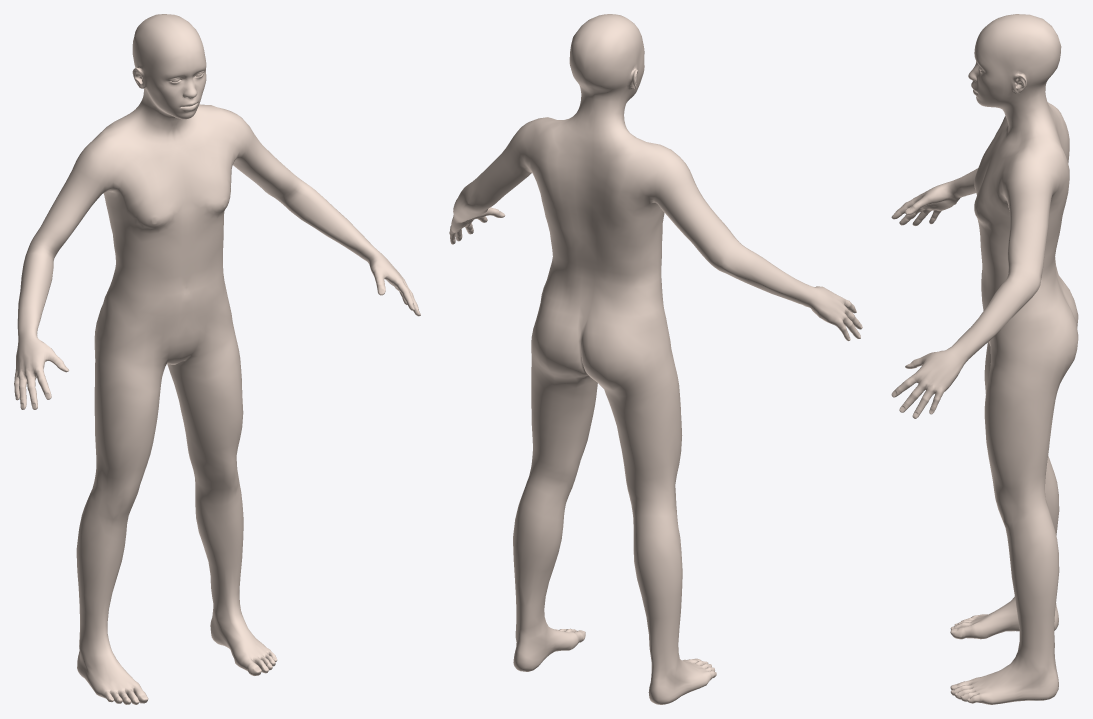
Rendered from avatar.glb.
3 views of the same model, side by side, from view 1: azimuth 30°, elevation 25°; view 2: azimuth 150°, elevation 25°; view 3: azimuth 270°, elevation 25° (orthographic).
Parts seen in each view (by area): view 1: avatar; view 2: avatar; view 3: avatar.
Boxes of the visible parts, <box> form: avatar: <box>14,14,420,704</box>; avatar: <box>449,14,862,704</box>; avatar: <box>891,14,1078,704</box>.
Bounding box in the file's own units: 1.04 × 1.63 × 0.4248.
